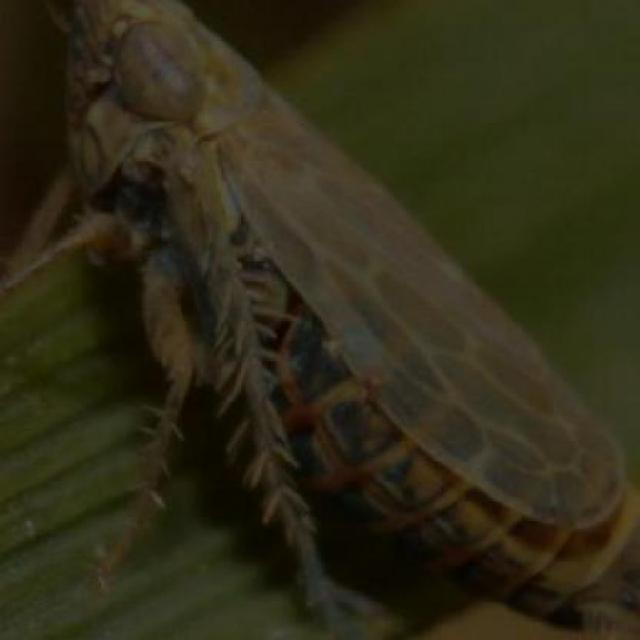green-leafhopper: (69, 3, 608, 586)
